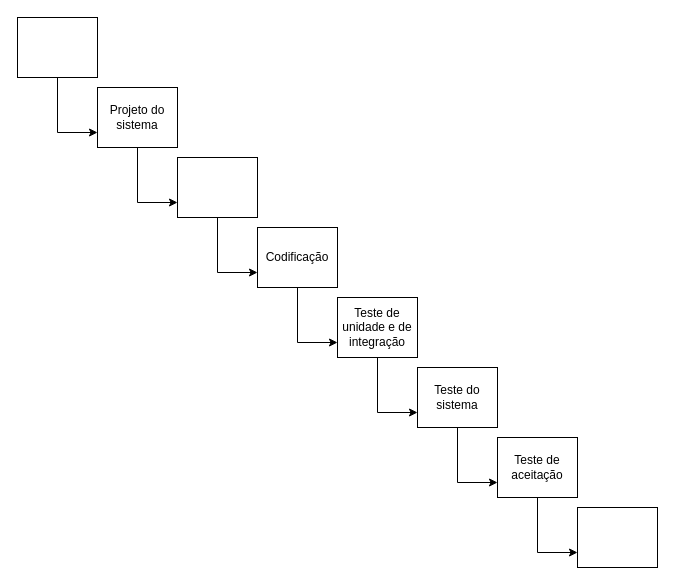
Image size: 675x585. Some labels were removed from this diagram. Each missing label, with the box of its shape:
Análise de requisitos: (16, 16, 98, 78)
Operação e manutenção: (576, 506, 658, 568)
Projeto do programa: (176, 156, 258, 218)
